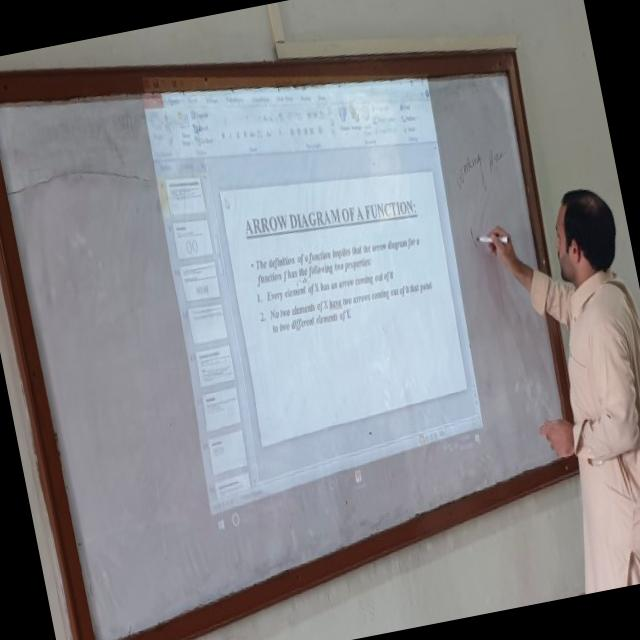Instructor: (503, 183, 640, 592)
Slide: (138, 72, 487, 539)
White-board: (0, 61, 583, 640)
